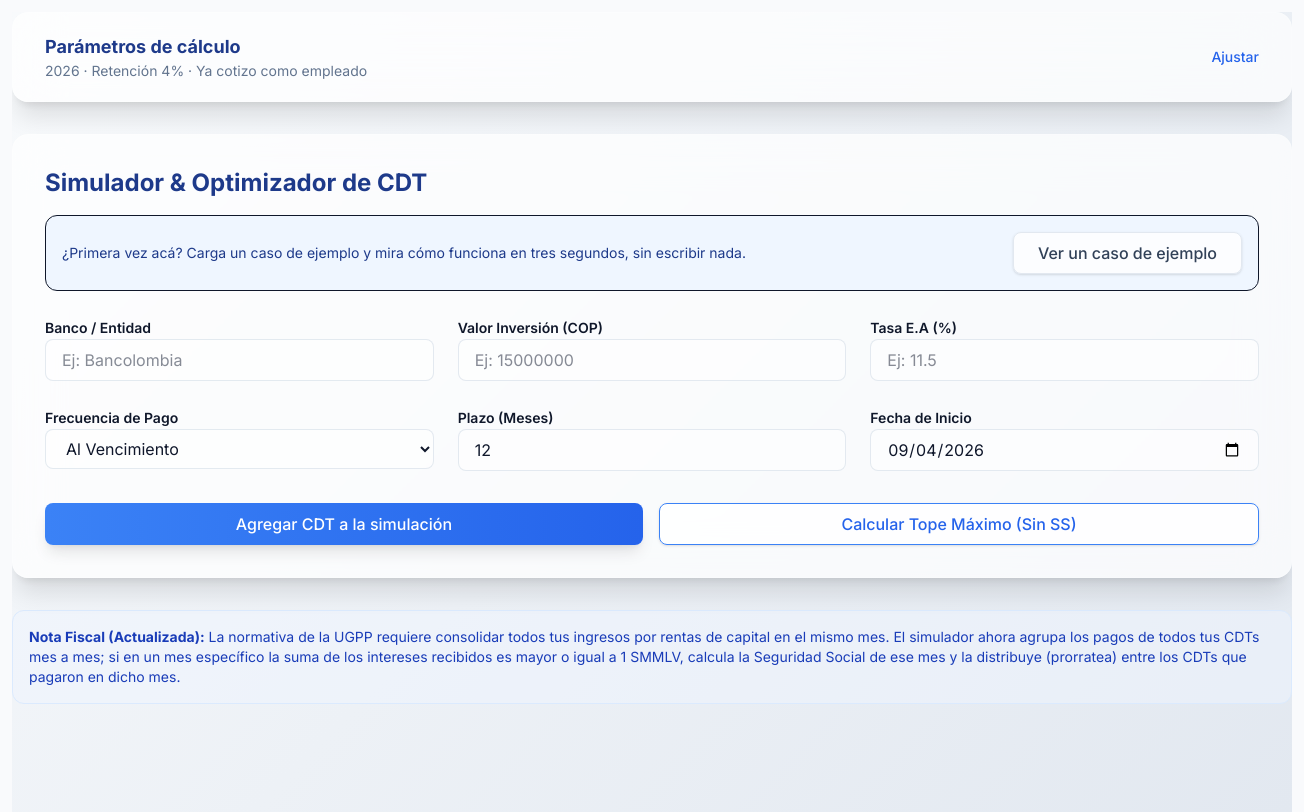
CDTSimulator › avisa si se intenta calcular el tope máximo sin una tasa E.A. válida
Click the button "Calcular Tope Máximo (Sin SS)" at (959, 524), box [659, 503, 1259, 545]
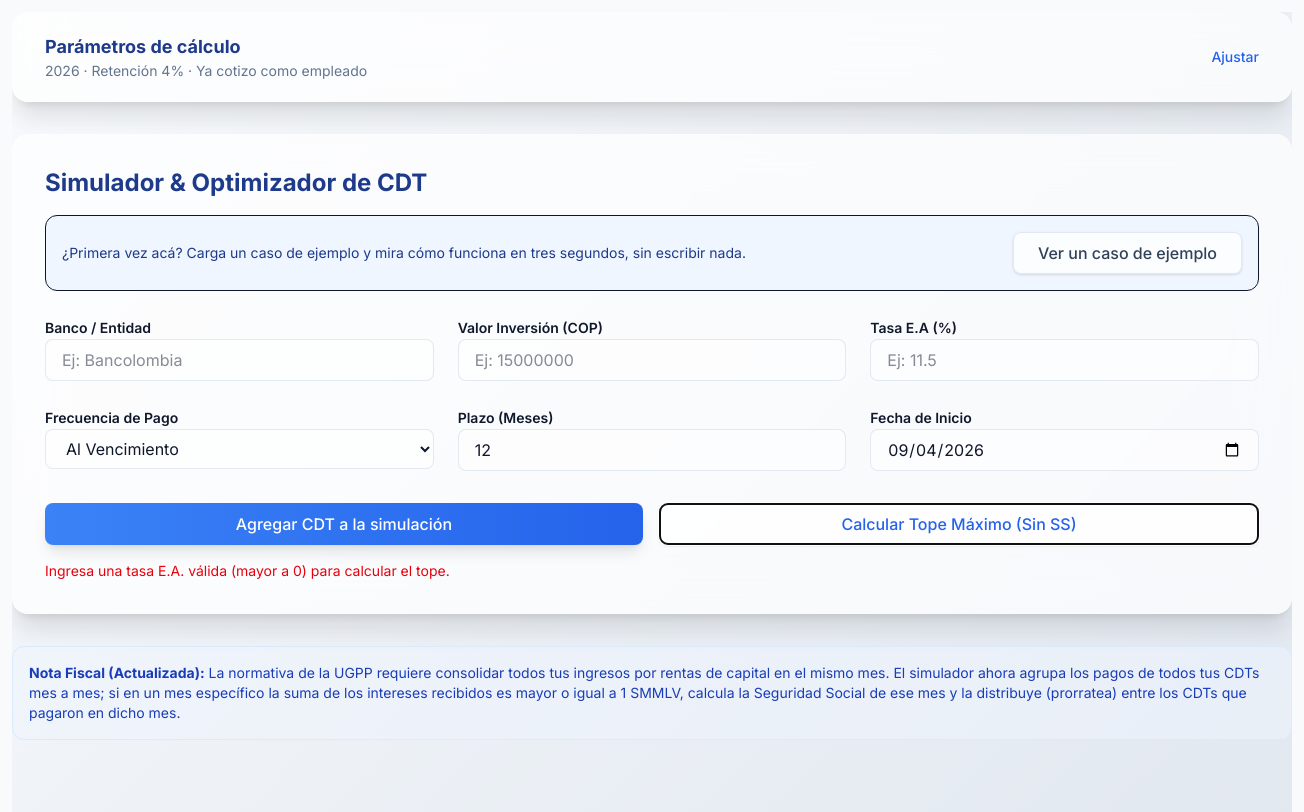
Check: the text "Ingresa una tasa E.A. válida (mayor a 0) para calcular el tope." is shown, box [45, 562, 450, 579]
